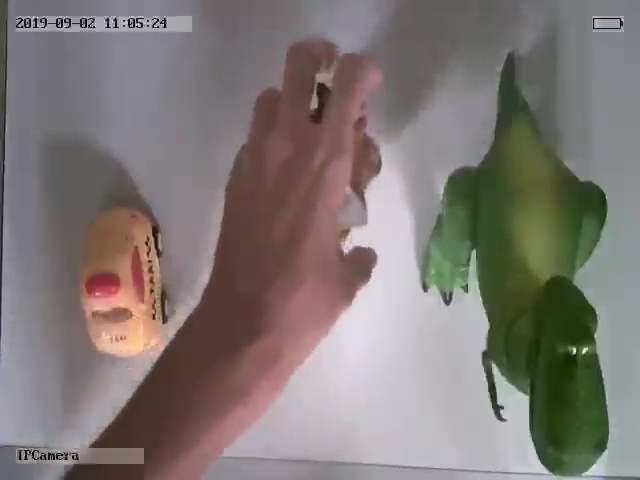car: (78, 203, 169, 358)
